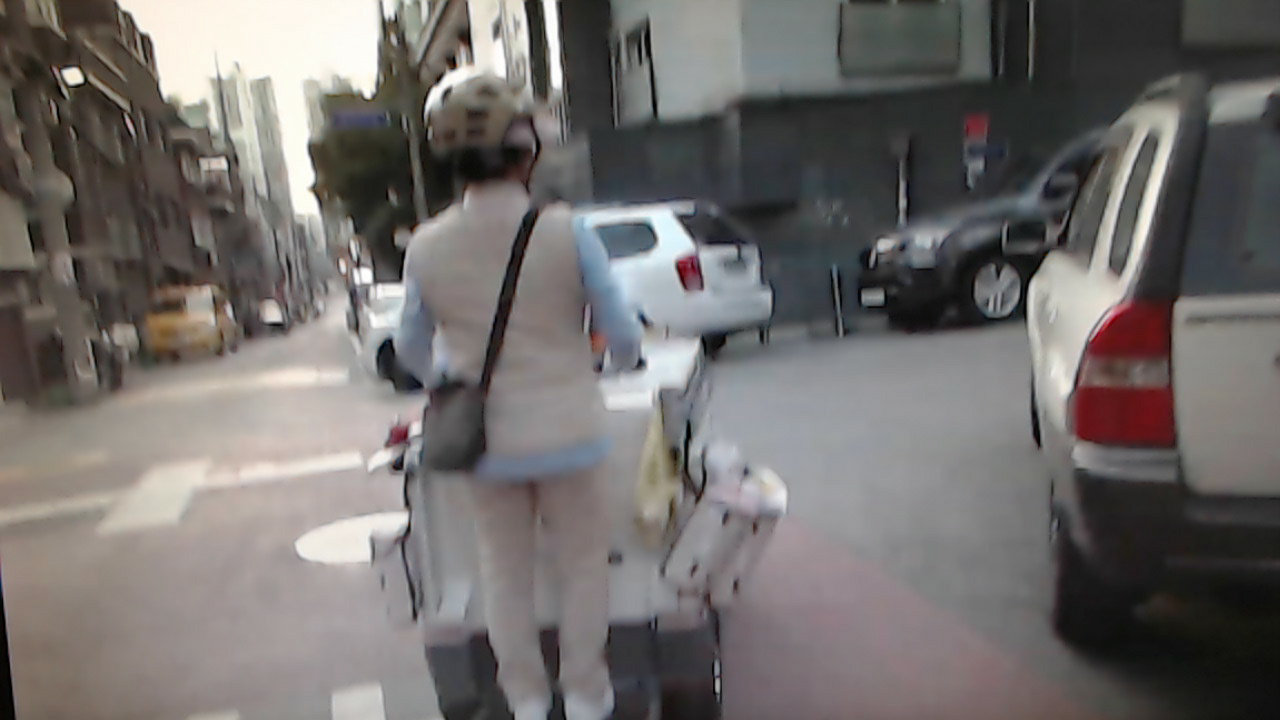Yakurut: (388, 57, 659, 720)
